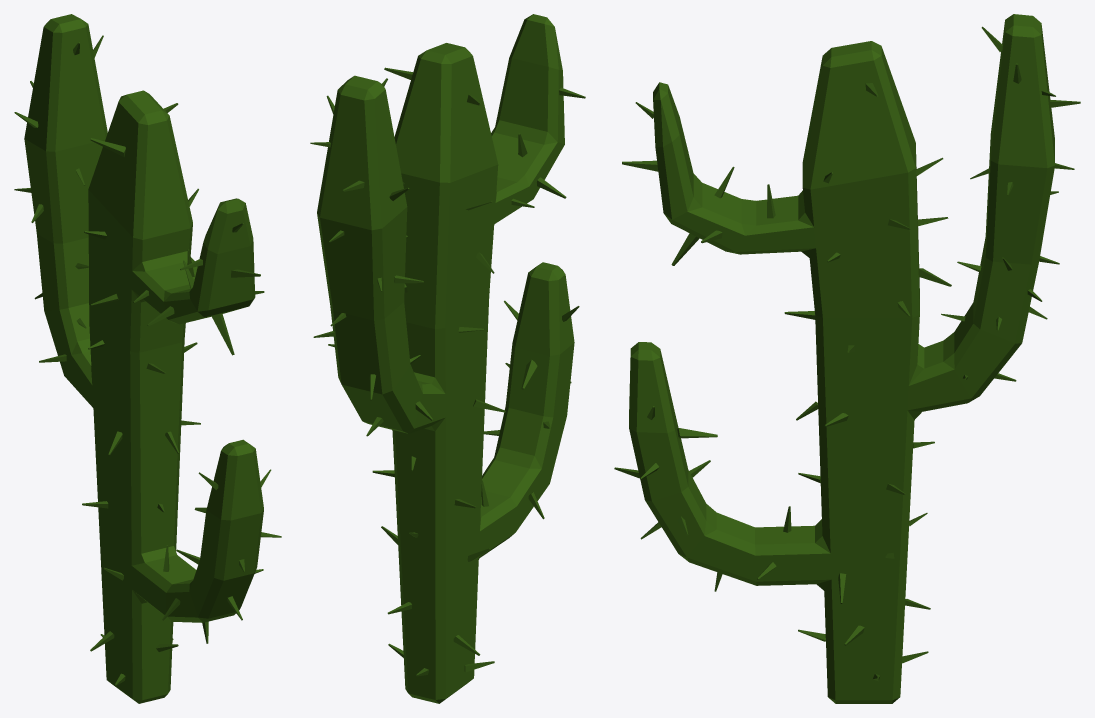
The model's file is Cactus01.fbx.
3 renders of one model, left to right at view 1: azimuth 30°, elevation 25°; view 2: azimuth 150°, elevation 25°; view 3: azimuth 270°, elevation 25°, orthographic. The views are drawn at different scales.
Visible parts, largest first — view 1: cactus-1; view 2: cactus-1; view 3: cactus-1.
Part boxes in pixels (bbox=[...]): cactus-1: bbox=[14, 14, 281, 703]; cactus-1: bbox=[310, 14, 585, 703]; cactus-1: bbox=[614, 14, 1080, 703].
Size of the model in its own units: 0.6178 by 3.45 by 2.15.
